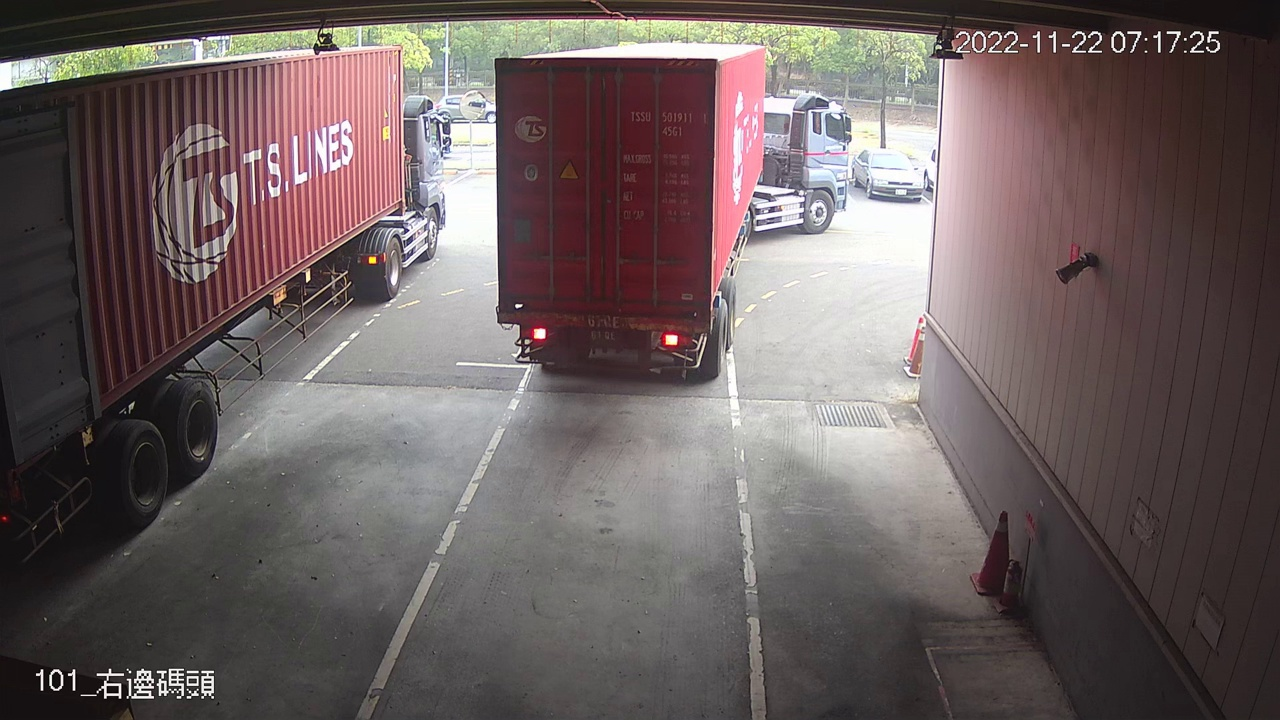container: (623, 104, 710, 142)
